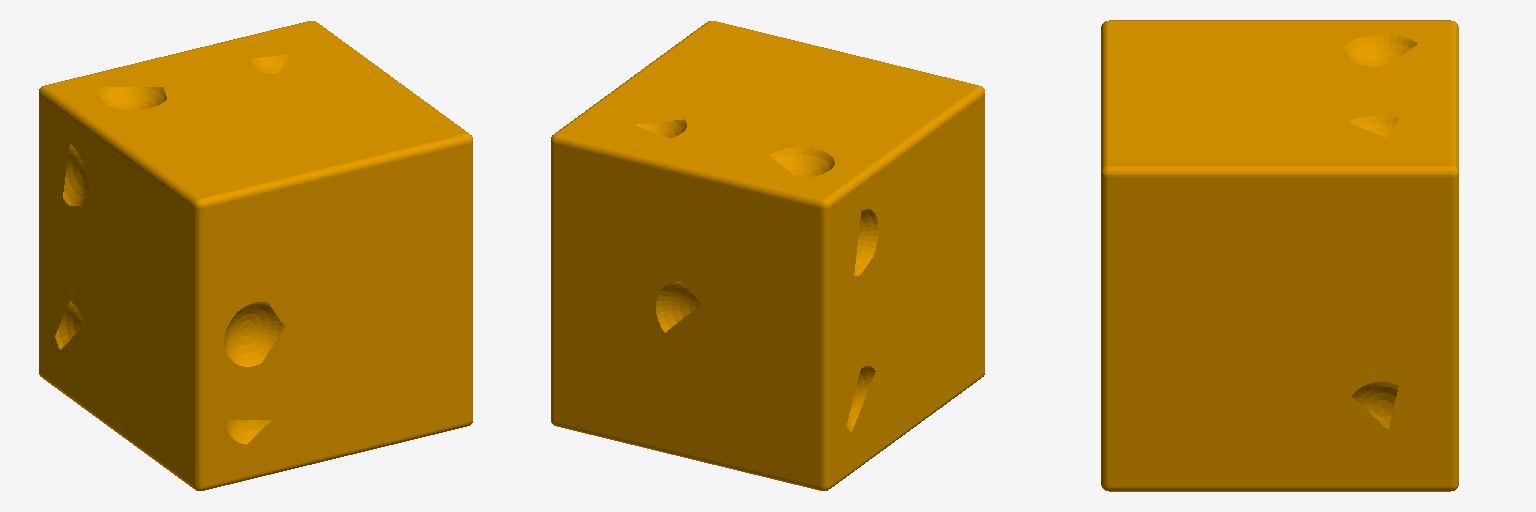
robot.urdf — dice:
<?xml version="1.0" ?>
<robot name="dice">



    <!-- <gazebo reference="dice">
        <material>Gazebo/Yellow</material>
    </gazebo> -->

    <link name="dice">
        <contact>
            <lateral_friction value="1.0"/>
        </contact>
        <inertial>
            <origin rpy="0 0 0" xyz="0 0 0"/>
            <mass value="0.2"/>
            <inertia ixx="0.00003" ixy="0" ixz="0" iyy="0.00003" iyz="0" izz="0.00003"/>
        </inertial>
        <visual>
            <origin rpy="0 0 0" xyz="0 0 0"/>
            <geometry>
                <mesh filename="package://irim_ss_pkg/meshes/Dice/Die-OBJ.obj" scale="0.03 0.03 0.03"/>
            </geometry>
        </visual>
        <collision>
            <origin rpy="0 0 0" xyz="0 0 0"/>
            <geometry>
                <mesh filename="package://irim_ss_pkg/meshes/Dice/Die-OBJ.obj" scale="0.03 0.03 0.03"/>
            </geometry>
        </collision>
    </link>

    <gazebo reference="dice">
      <kp>100000.0</kp>
      <kd>1000.0</kd>
      <mu1>0.8</mu1>
      <mu2>0.4</mu2>
    </gazebo>
</robot>

--- Facts derived from the render (not from the file) ---
3 views of the same robot in one strip: view 1: azimuth 30°, elevation 25°; view 2: azimuth 150°, elevation 25°; view 3: azimuth 270°, elevation 25° (orthographic).
Robot: dice — 1 links, 0 joints (none); root link dice; default pose: every joint at zero.
Visible links, largest first — view 1: dice; view 2: dice; view 3: dice.
Boxes of the visible links, <box> form: dice: <box>39,21,472,490</box>; dice: <box>551,21,984,490</box>; dice: <box>1101,20,1458,491</box>.
Bounding box of the posed robot: 0.034 × 0.034 × 0.034 m (x, y, z).
1 mesh visuals loaded from 1 distinct referenced files (1 OBJ).